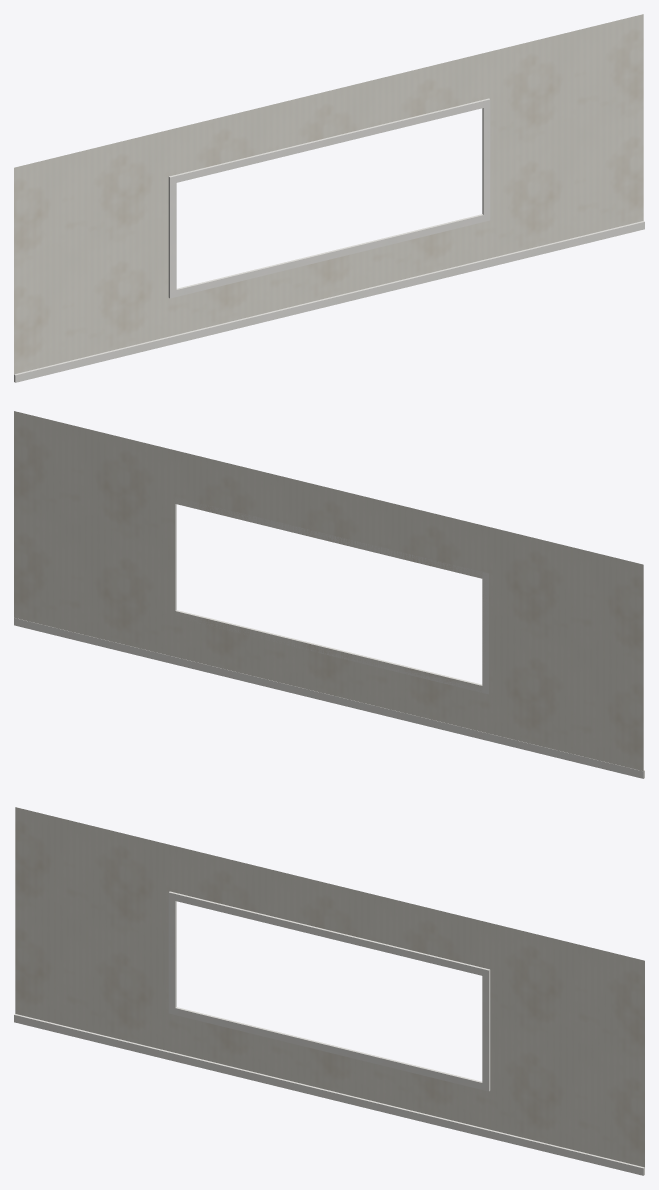
The model's file is wall_window.gltf.
3 renders of one model, top to bottom at view 1: azimuth 30°, elevation 25°; view 2: azimuth 150°, elevation 25°; view 3: azimuth 330°, elevation 25°, orthographic.
Parts seen in each view (by area): view 1: jx_wall_window; view 2: jx_wall_window; view 3: jx_wall_window.
Boxes of the visible parts, left/top/right/bottom form: jx_wall_window: left=14, top=14, right=644, bottom=382; jx_wall_window: left=14, top=411, right=644, bottom=778; jx_wall_window: left=14, top=807, right=644, bottom=1175.
Size of the model in its own units: 12.3 by 4 by 0.05.
2 materials, 2 textured.
